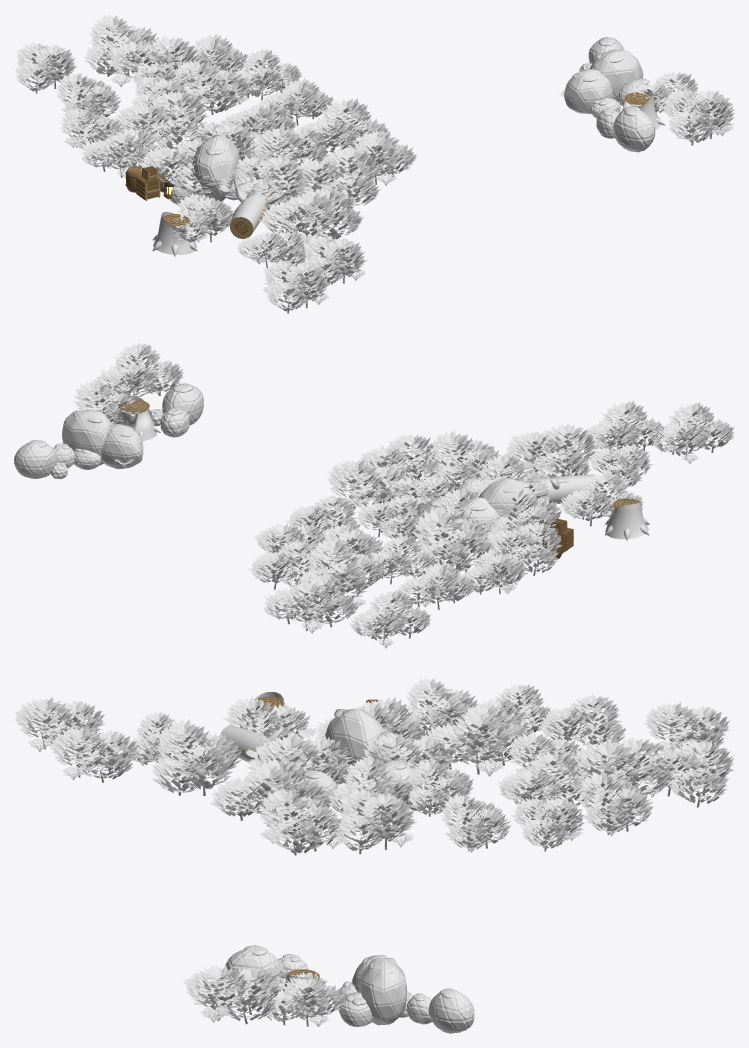
File: SM_DF_Explorer_0_2_Macro.fbx
3 renders of one model, top to bottom at view 1: azimuth 30°, elevation 25°; view 2: azimuth 150°, elevation 25°; view 3: azimuth 270°, elevation 25°, orthographic. The views are drawn at different scales.
Parts seen in each view (by area): view 1: SM_DF_Explorer_0_2_Macro; view 2: SM_DF_Explorer_0_2_Macro; view 3: SM_DF_Explorer_0_2_Macro.
Part boxes in pixels (x1,y1,x2,y2): SM_DF_Explorer_0_2_Macro: [15, 14, 734, 313]; SM_DF_Explorer_0_2_Macro: [14, 342, 734, 648]; SM_DF_Explorer_0_2_Macro: [14, 677, 734, 1033].
Size of the model in its own units: 2966 by 2895 by 388.
